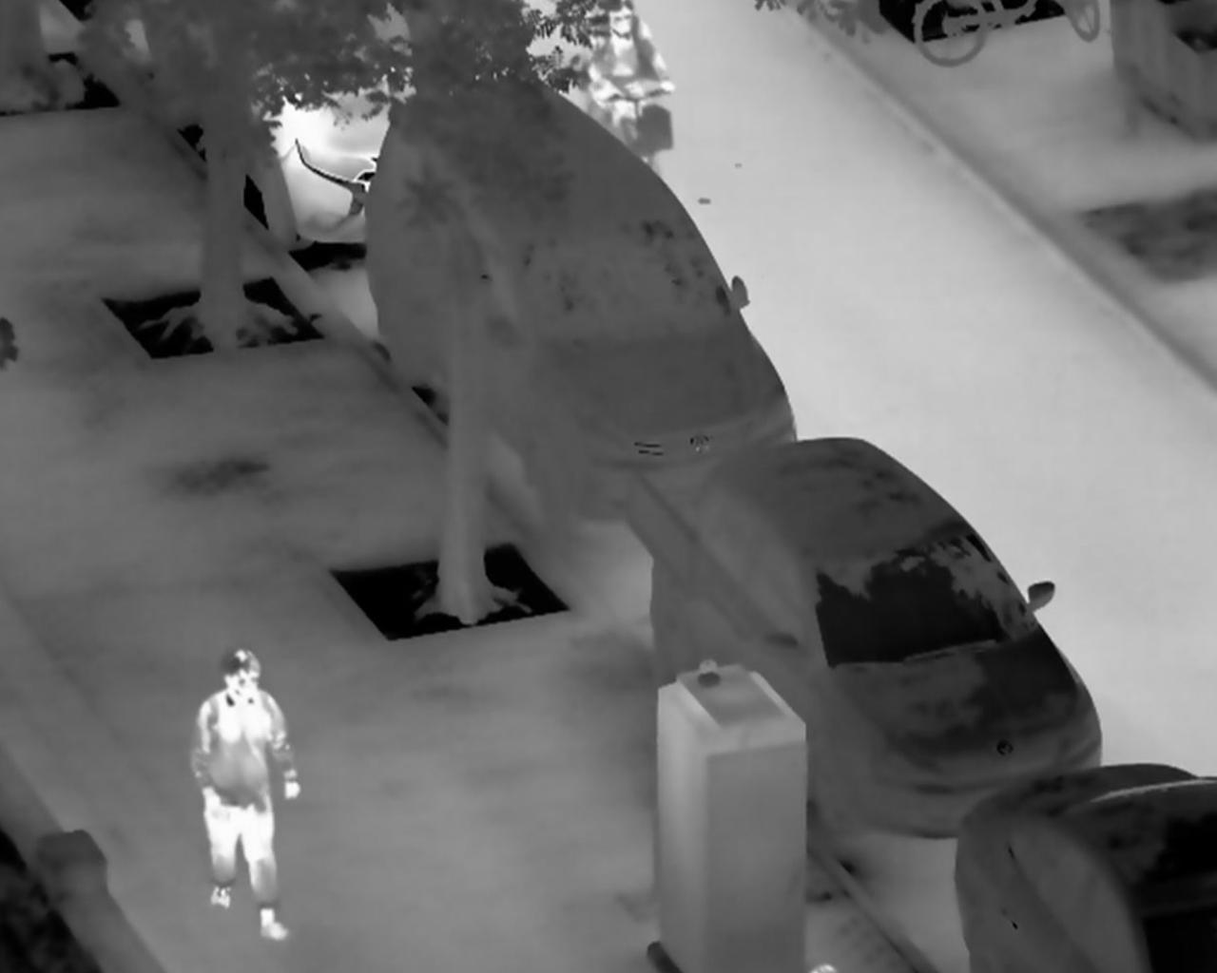person: (190, 645, 299, 944)
